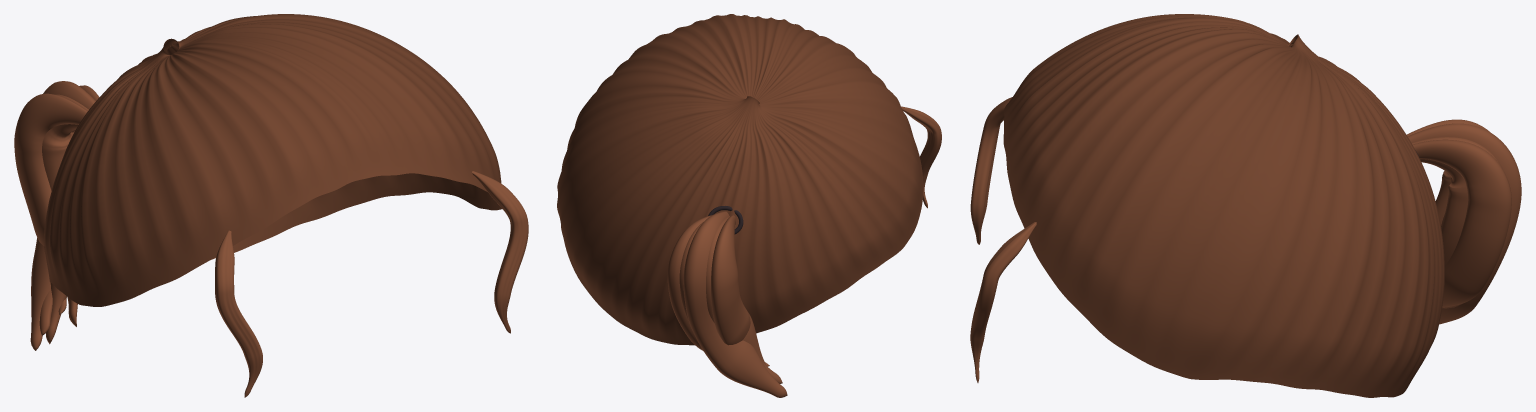
File: Feminine-ponytail-default-scarf-hair.glb
3 views of the same model, side by side, from view 1: azimuth 30°, elevation 25°; view 2: azimuth 150°, elevation 25°; view 3: azimuth 270°, elevation 25° (orthographic). The views are drawn at different scales.
Visible parts, largest first — view 1: Hair / swept roots220, Hair / rounded tail220 0, Hair / adjustable front216 1, Hair / adjustable front216 -1, Hair / rounded tail220 2, Hair / rounded tail220 1; view 2: Hair / swept roots220, Hair / rounded tail220 2, Hair / rounded tail220 0, Hair / rounded tail220 4, Hair / adjustable front216 -1, Hair / rounded tail220 1, Hair / rounded tail220 3; view 3: Hair / swept roots220, Hair / rounded tail220 4, Hair / rounded tail220 2, Hair / adjustable front216 1, Hair / adjustable front216 -1, Hair / rounded tail220 3.
Part boxes in pixels (x1,y1,x2,y2): Hair / swept roots220: [44, 14, 502, 306]; Hair / rounded tail220 0: [14, 93, 87, 326]; Hair / adjustable front216 1: [472, 171, 528, 333]; Hair / adjustable front216 -1: [215, 230, 262, 397]; Hair / rounded tail220 2: [30, 81, 95, 350]; Hair / rounded tail220 1: [42, 94, 88, 344]; Hair / swept roots220: [557, 14, 923, 345]; Hair / rounded tail220 2: [683, 211, 787, 397]; Hair / rounded tail220 0: [711, 215, 750, 345]; Hair / rounded tail220 4: [667, 215, 769, 366]; Hair / adjustable front216 -1: [901, 106, 941, 208]; Hair / rounded tail220 1: [706, 216, 765, 364]; Hair / rounded tail220 3: [679, 222, 782, 383]; Hair / swept roots220: [1003, 14, 1444, 397]; Hair / rounded tail220 4: [1413, 139, 1511, 307]; Hair / rounded tail220 2: [1408, 123, 1521, 324]; Hair / adjustable front216 1: [970, 222, 1036, 382]; Hair / adjustable front216 -1: [970, 97, 1012, 244]; Hair / rounded tail220 3: [1411, 137, 1502, 308].
Bounding box in the file's own units: 0.7726 × 0.6484 × 0.856.
